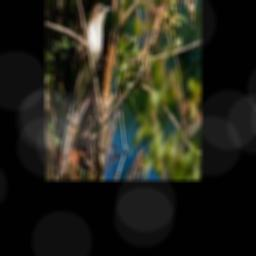Cuckoo: (61, 3, 111, 159)
